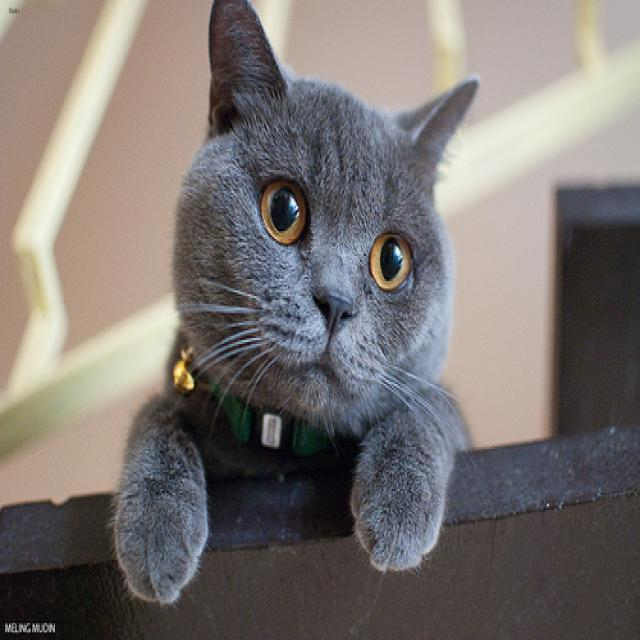British_Shorthair: (188, 0, 476, 409)
